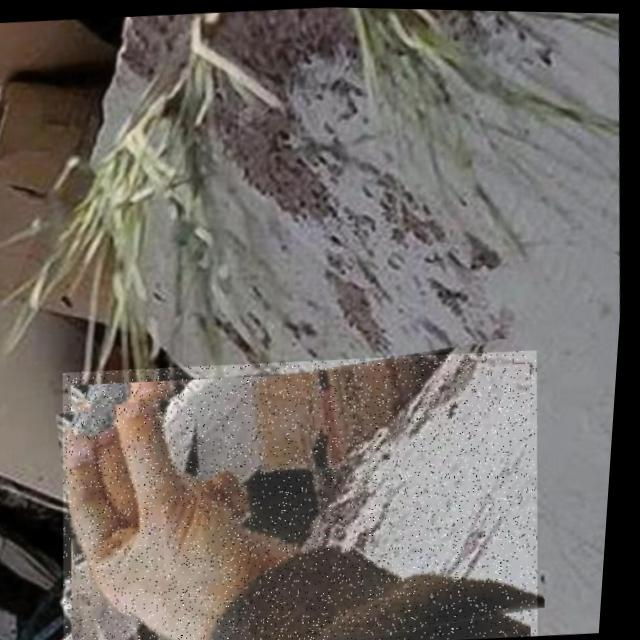Person in Rubble: (53, 338, 561, 640)
